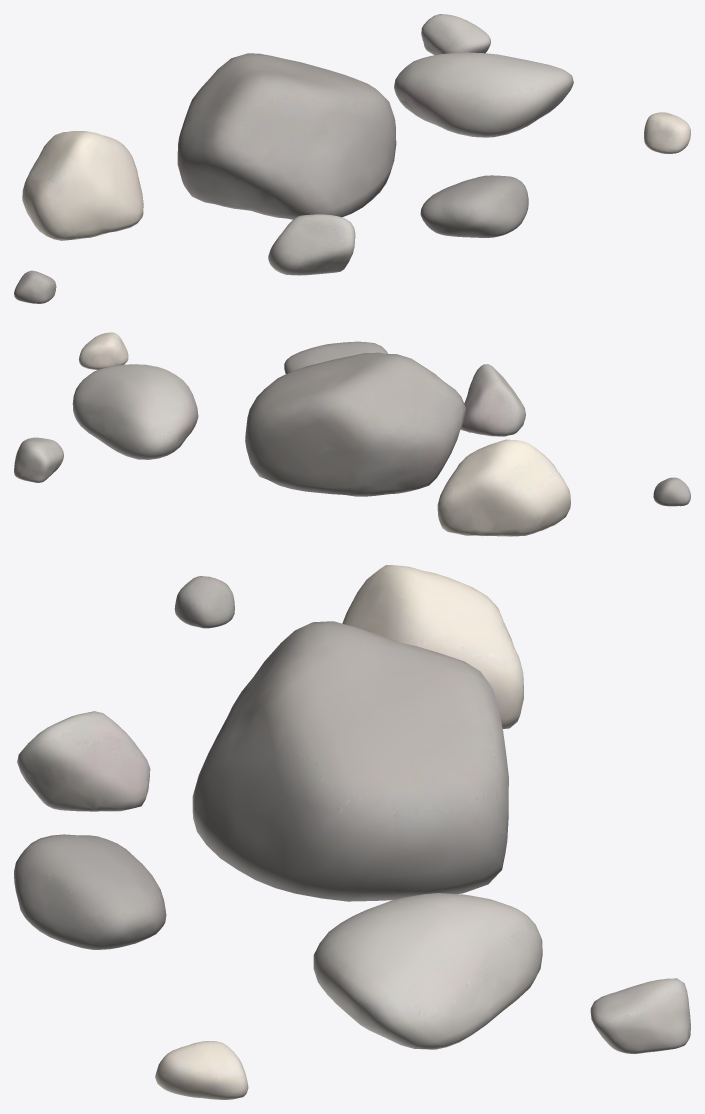
File: small-rock-set.glb
The picture shows the model from 3 angles, top to bottom: view 1: azimuth 30°, elevation 25°; view 2: azimuth 150°, elevation 25°; view 3: azimuth 270°, elevation 25°; orthographic projection. The views are drawn at different scales.
Parts seen in each view (by area): view 1: small-rock-set_body; view 2: small-rock-set_body; view 3: small-rock-set_body.
Boxes of the visible parts, <box> form: small-rock-set_body: <box>14,14,690,303</box>; small-rock-set_body: <box>14,332,690,536</box>; small-rock-set_body: <box>14,565,690,1099</box>.
Size of the model in its own units: 0.9536 by 0.17 by 0.5428.
1 material, 1 textured.
